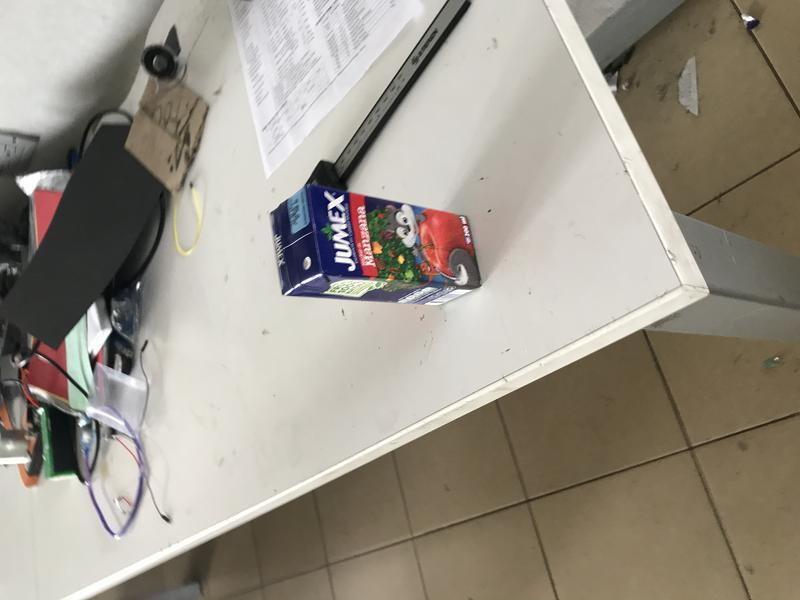jumex_cajita: (271, 184, 483, 308)
